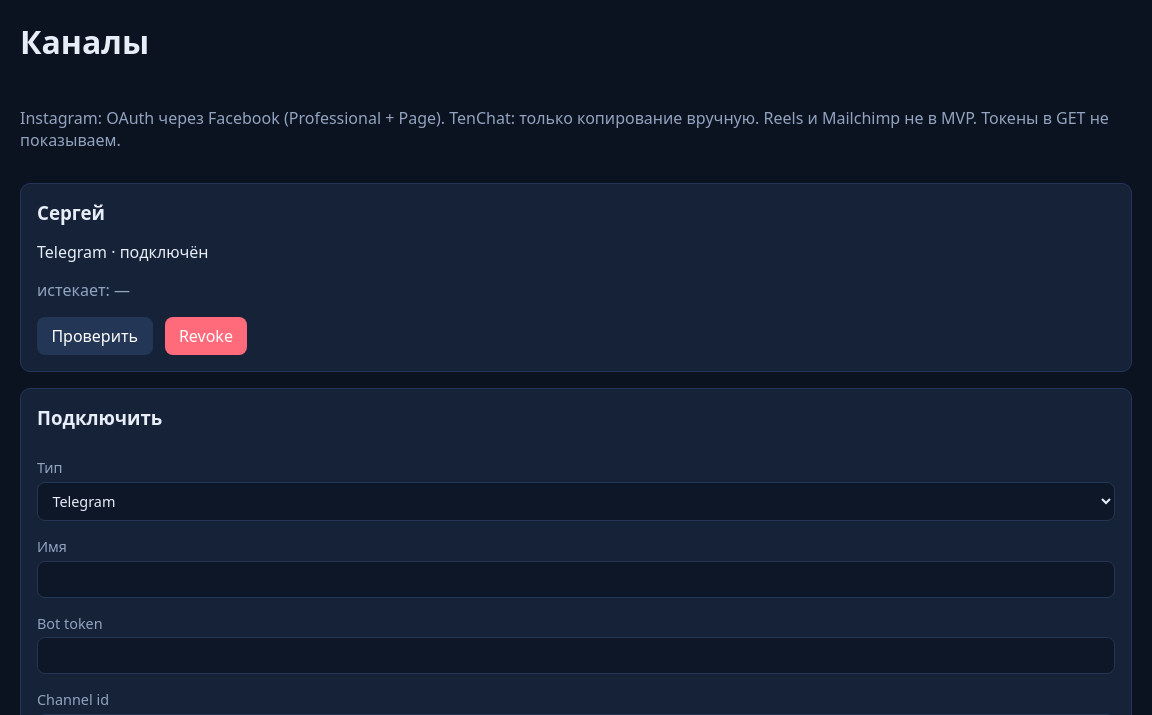
Test: SCR-CHN secrets › shows ErrorBanner and per-card reason when health HTTP fails
Expected: the heading "Сергей" is shown, [37,200,105,225]
Click the button "Проверить".
click(95, 336)  # box [37,317,152,355]
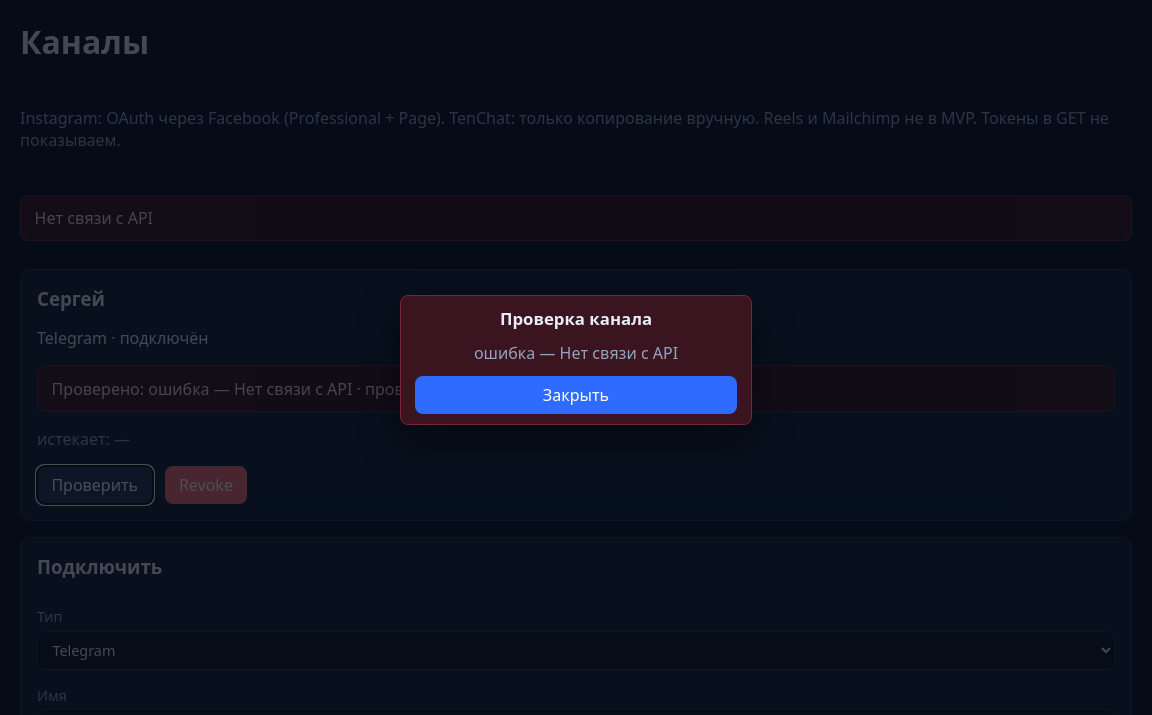
Expected: the text "Нет связи с API" is shown, [20,195,1132,241]
Expected: the text "Проверено: ошибка — Нет связи с API · проверено 07:59:20" is shown, [37,365,1115,412]
